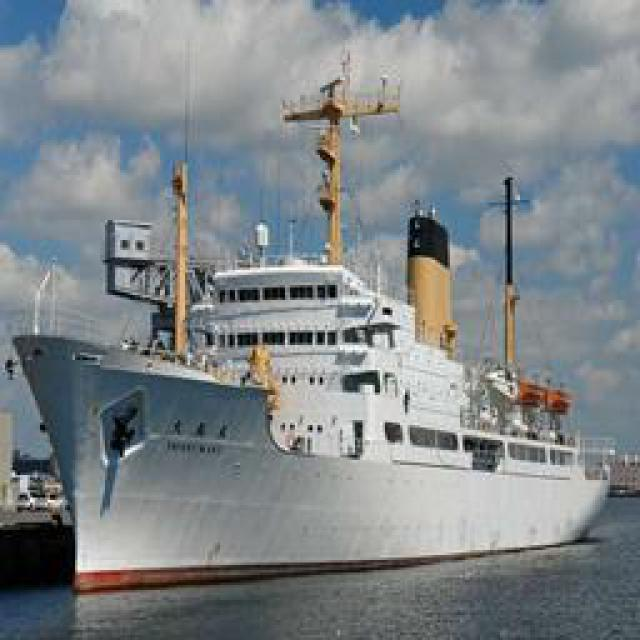Ship: (23, 126, 618, 586)
